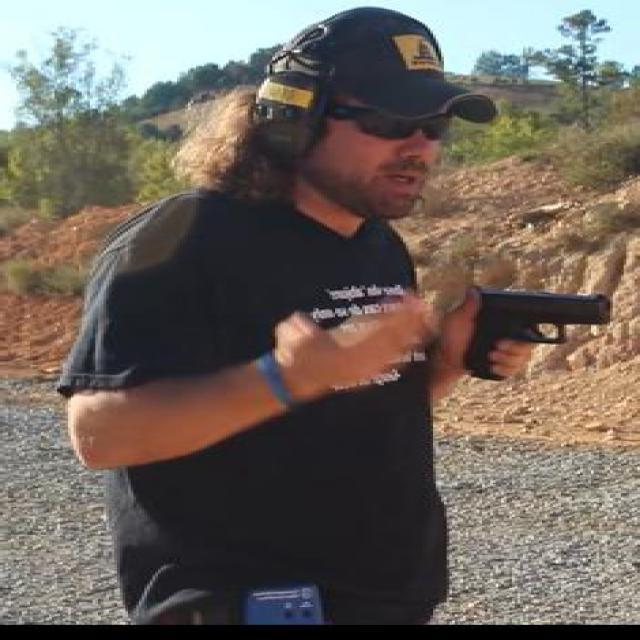Gun: (463, 286, 624, 379)
